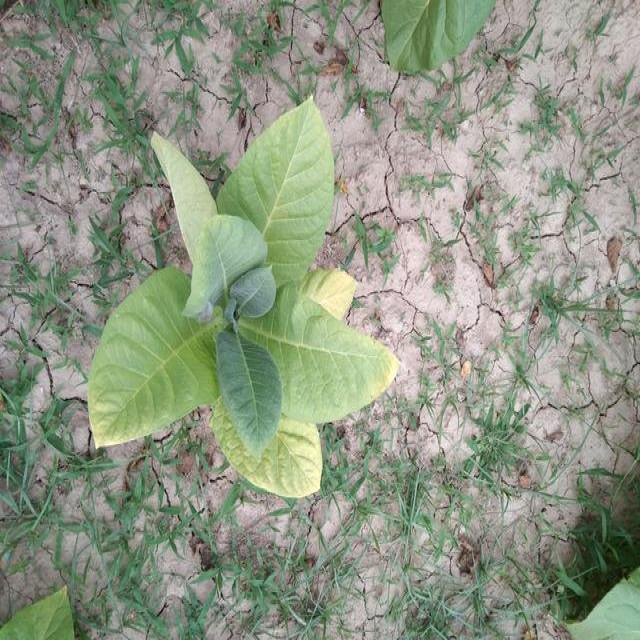crop: (81, 89, 405, 501)
